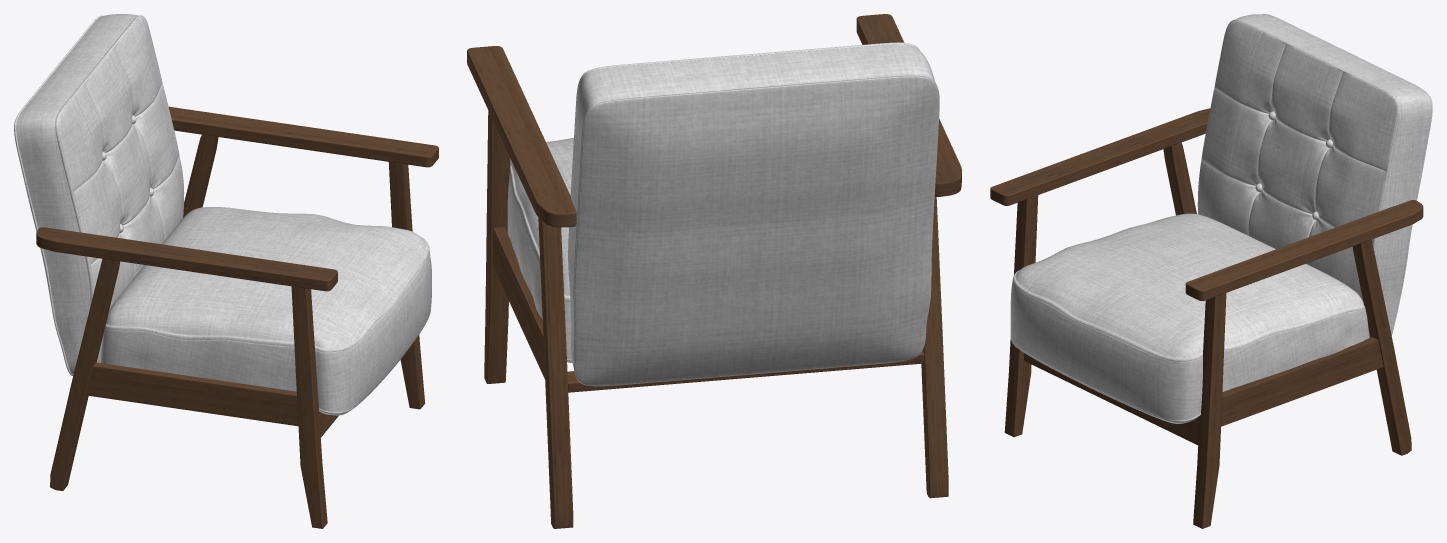
The model's file is sofa.glb.
3 renders of one model, left to right at view 1: azimuth 30°, elevation 25°; view 2: azimuth 150°, elevation 25°; view 3: azimuth 270°, elevation 25°, orthographic. The views are drawn at different scales.
Parts seen in each view (by area): view 1: Fabric, Wood; view 2: Fabric, Wood; view 3: Fabric, Wood.
Boxes of the visible parts, x1,y1,x2,y2 form: Fabric: [14, 14, 431, 415]; Wood: [36, 106, 438, 528]; Fabric: [507, 42, 939, 386]; Wood: [467, 14, 961, 528]; Fabric: [1010, 14, 1432, 423]; Wood: [990, 108, 1423, 528].
Bounding box in the file's own units: 0.7942 × 0.6943 × 0.8009.
2 materials, 2 textured.
